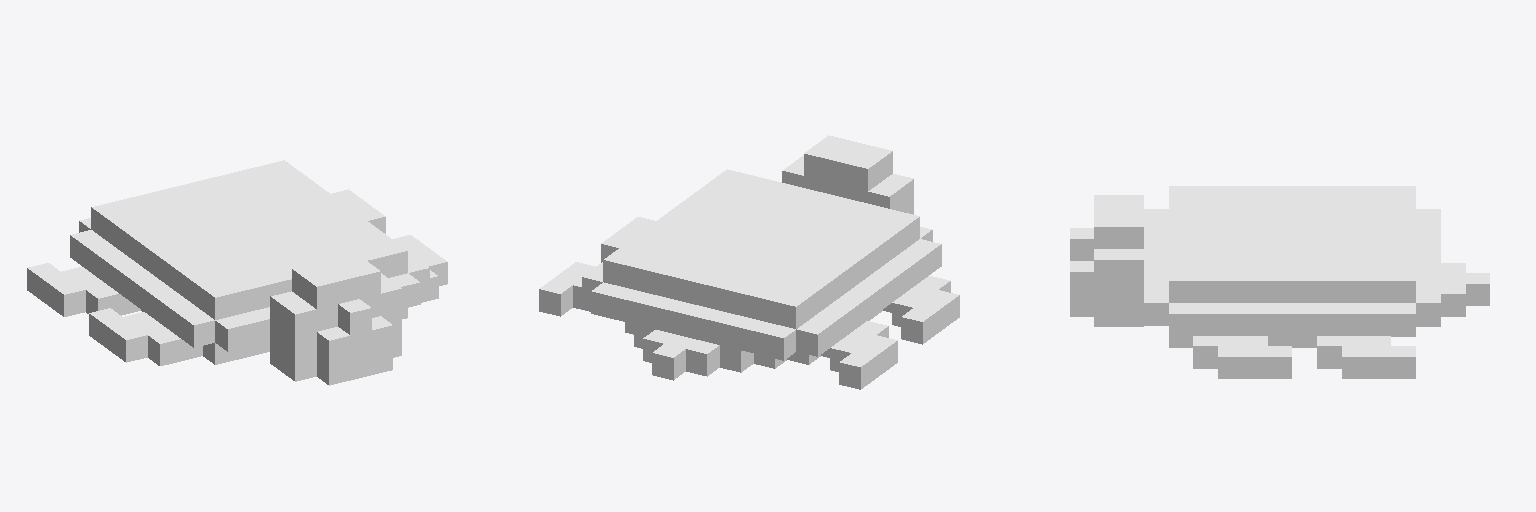
The model's file is Tank01.obj.
3 renders of one model, left to right at view 1: azimuth 30°, elevation 25°; view 2: azimuth 150°, elevation 25°; view 3: azimuth 270°, elevation 25°, orthographic.
Parts seen in each view (by area): view 1: object 1; view 2: object 1; view 3: object 1.
Part boxes in pixels (bbox=[...]): object 1: bbox=[27, 160, 447, 385]; object 1: bbox=[539, 135, 959, 389]; object 1: bbox=[1070, 186, 1489, 378].
Bounding box in the file's own units: 1.5 × 0.4 × 1.7.